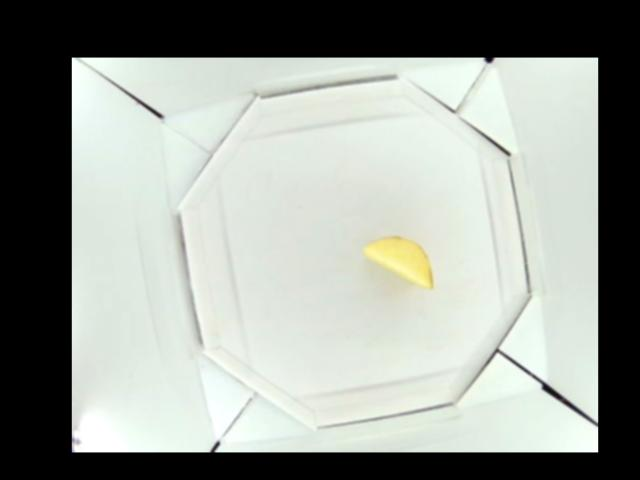Potato: (362, 235, 434, 290)
